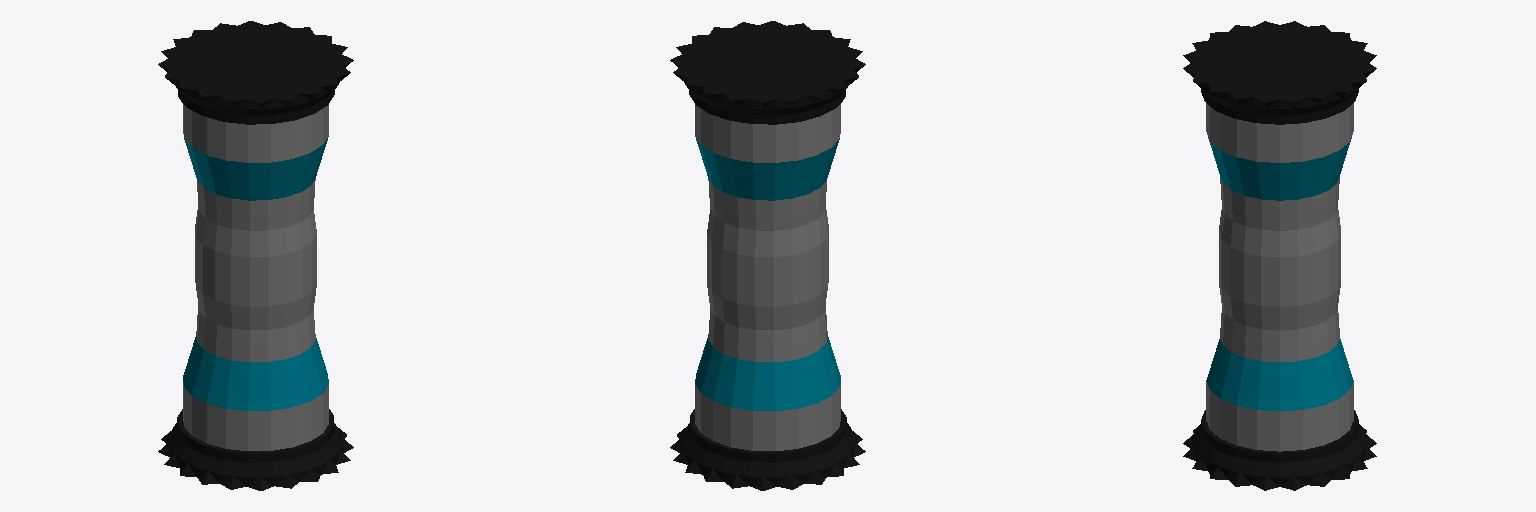
File: empGrenadev1.obj
3 views of the same model, side by side, from view 1: azimuth 30°, elevation 25°; view 2: azimuth 150°, elevation 25°; view 3: azimuth 270°, elevation 25° (orthographic).
Parts seen in each view (by area): view 1: pCylinder11, pCylinder7, pCylinder8; view 2: pCylinder11, pCylinder7, pCylinder8; view 3: pCylinder11, pCylinder7, pCylinder8.
Boxes of the visible parts, <box> form: pCylinder11: <box>183,104,328,450</box>; pCylinder7: <box>158,21,353,124</box>; pCylinder8: <box>158,409,353,490</box>; pCylinder11: <box>695,104,840,450</box>; pCylinder7: <box>670,21,865,124</box>; pCylinder8: <box>670,409,865,490</box>; pCylinder11: <box>1206,103,1353,451</box>; pCylinder7: <box>1183,21,1376,124</box>; pCylinder8: <box>1183,410,1376,490</box>.
Size of the model in its own units: 1.11 by 2.44 by 1.11.